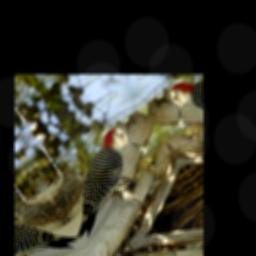Woodpecker: (36, 119, 166, 243)
